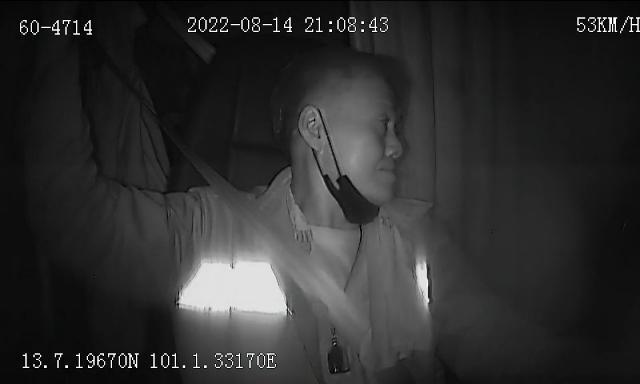Seatbelt: (153, 138, 370, 338)
